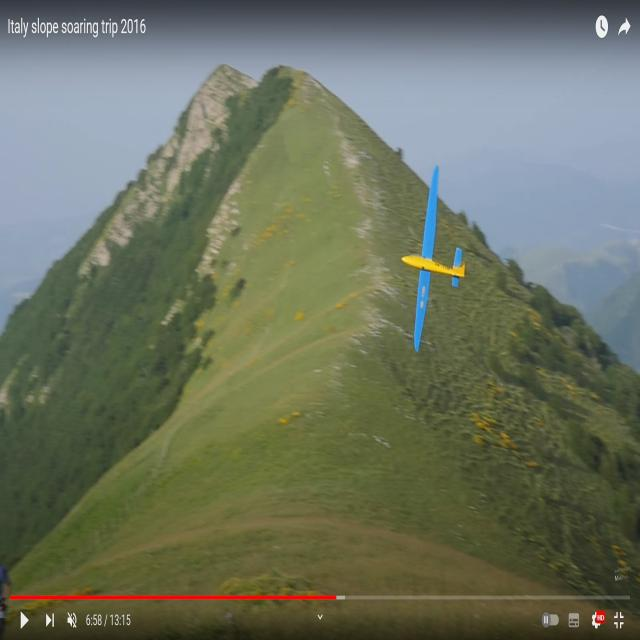iha: (432, 166, 435, 341)
